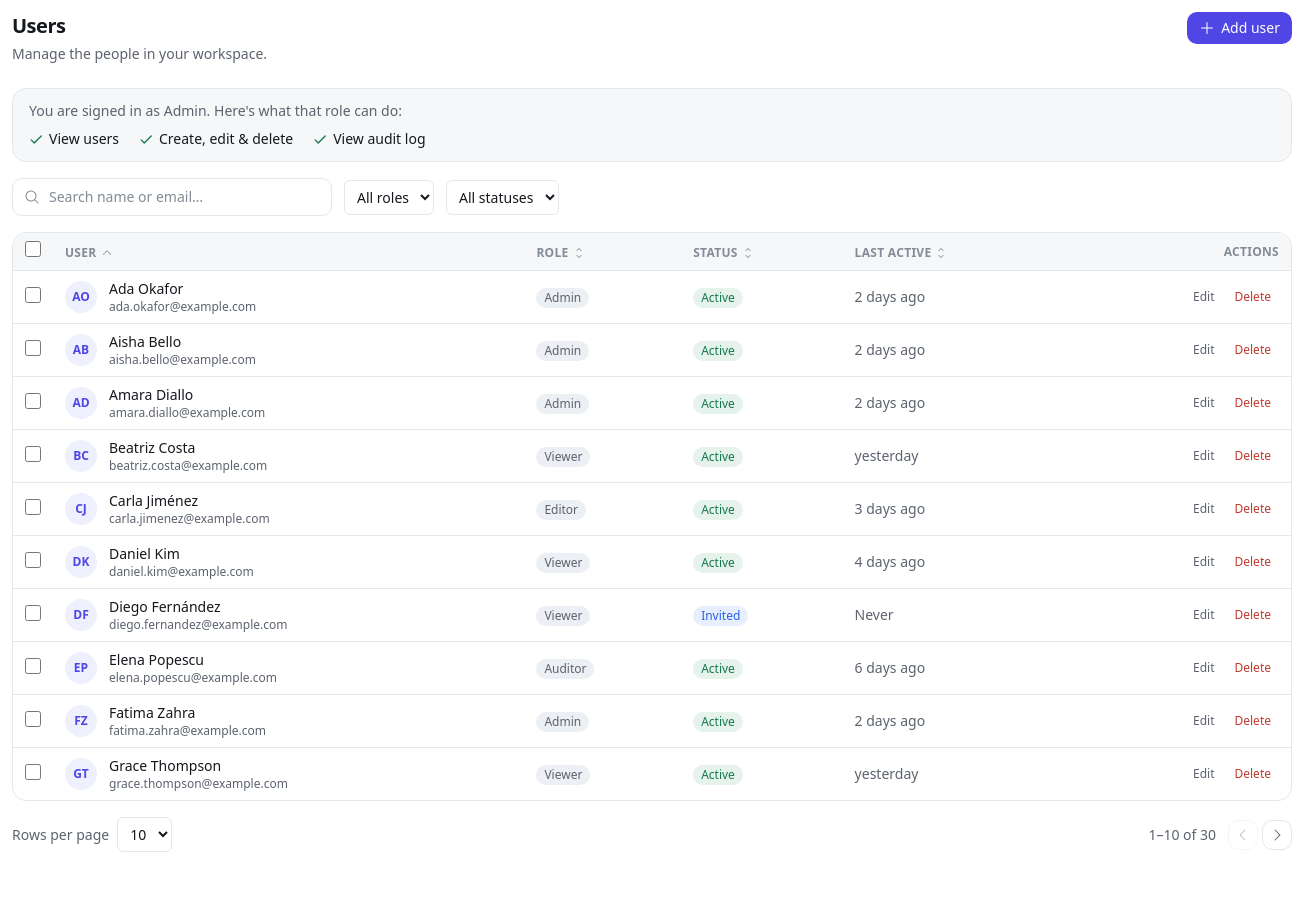
Test case: UsersPage › searches across name and email
Check: the text "Ada Okafor" is shown, box [109,279,183,298]
Type "ivan" into the search field labelled "Search" at (172, 197), box [12,178,332,216]
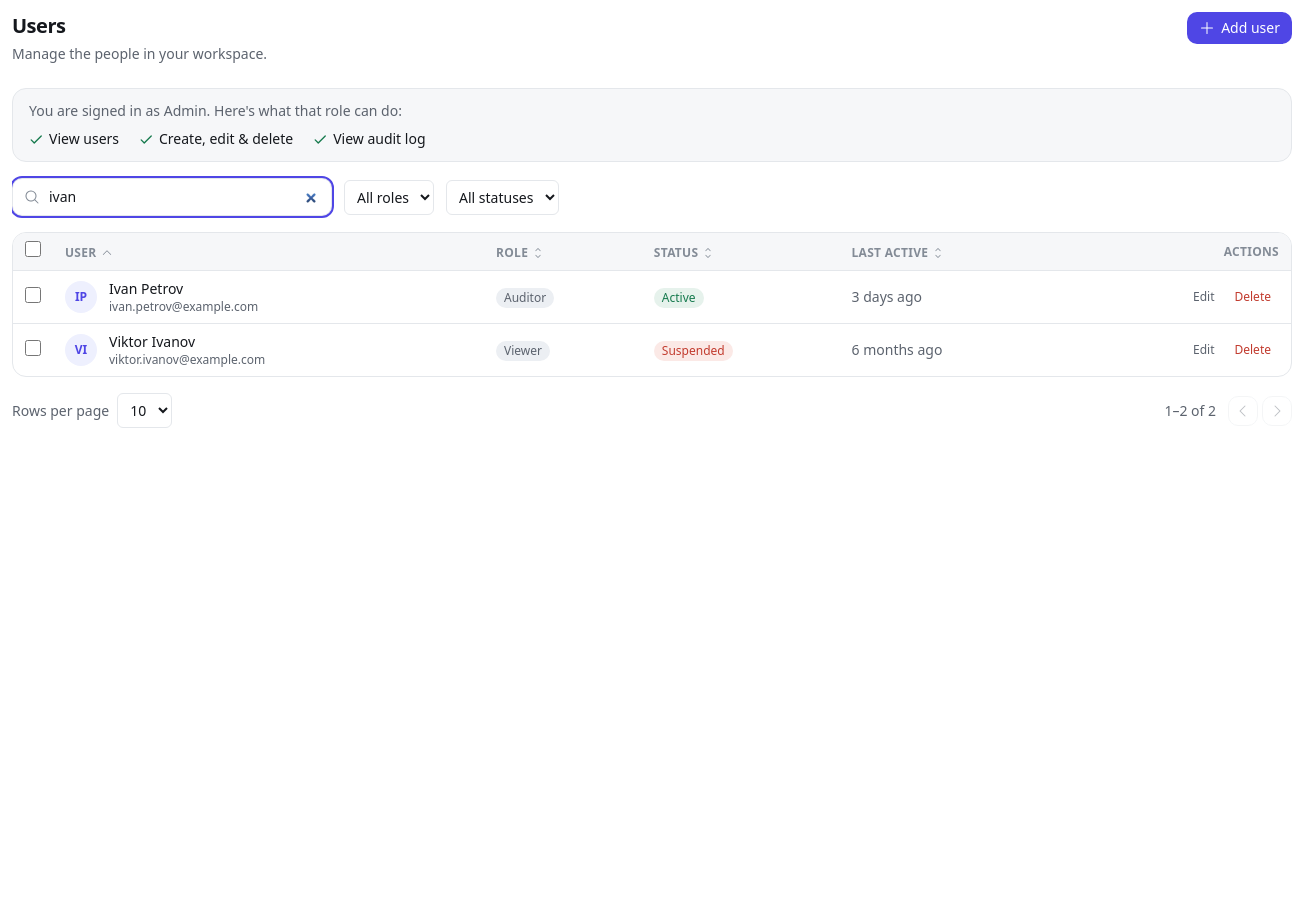
Check: the text "Ivan Petrov" is shown, box [109,279,183,298]
Check: the text "Ada Okafor" is gone
